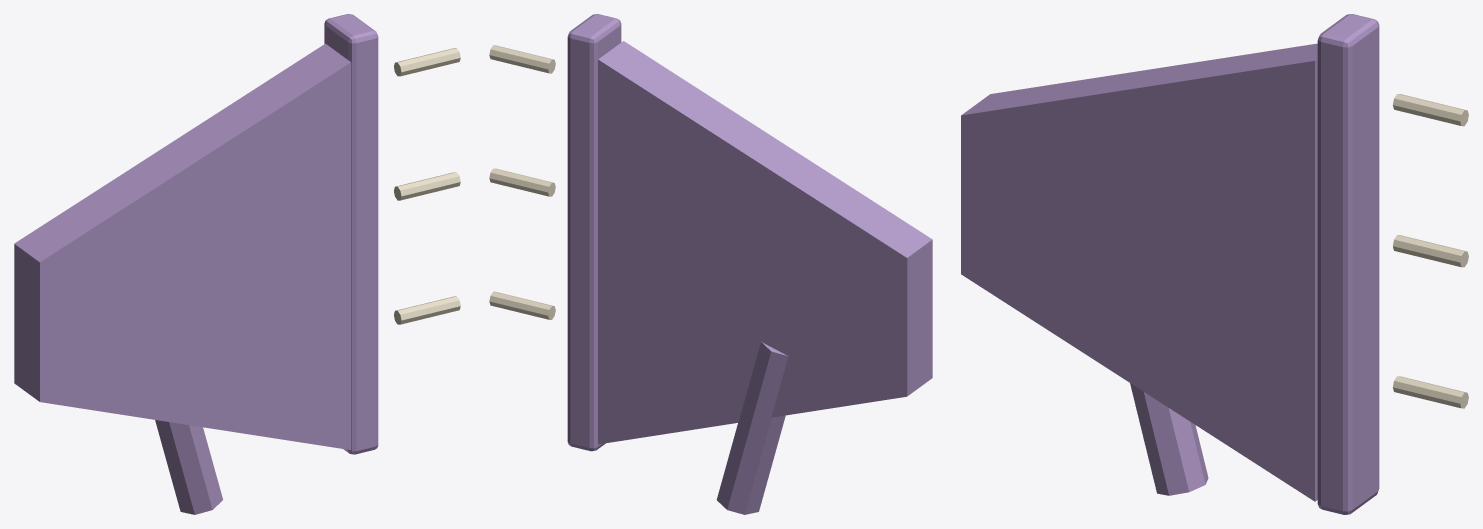
Rendered from actions-words.glb.
3 renders of one model, left to right at view 1: azimuth 30°, elevation 25°; view 2: azimuth 150°, elevation 25°; view 3: azimuth 330°, elevation 25°, orthographic. The views are drawn at different scales.
Parts seen in each view (by area): view 1: Megaphone horn.001, Megaphone rim.001, Sound ray.003; view 2: Megaphone horn.001, Megaphone rim.001, Sound ray.003; view 3: Megaphone horn.001, Megaphone rim.001, Sound ray.003.
Boxes of the visible parts, x1=… form: Megaphone horn.001: x1=14, y1=43, x2=351, y2=449; Megaphone rim.001: x1=155, y1=14, x2=378, y2=514; Sound ray.003: x1=394, y1=48, x2=460, y2=324; Megaphone horn.001: x1=598, y1=41, x2=932, y2=444; Megaphone rim.001: x1=567, y1=14, x2=788, y2=514; Sound ray.003: x1=489, y1=45, x2=555, y2=319; Megaphone horn.001: x1=961, y1=43, x2=1317, y2=501; Megaphone rim.001: x1=1130, y1=14, x2=1379, y2=514; Sound ray.003: x1=1392, y1=94, x2=1468, y2=408.
Bounding box in the file's own units: 0.029 × 0.0289 × 0.0034.
